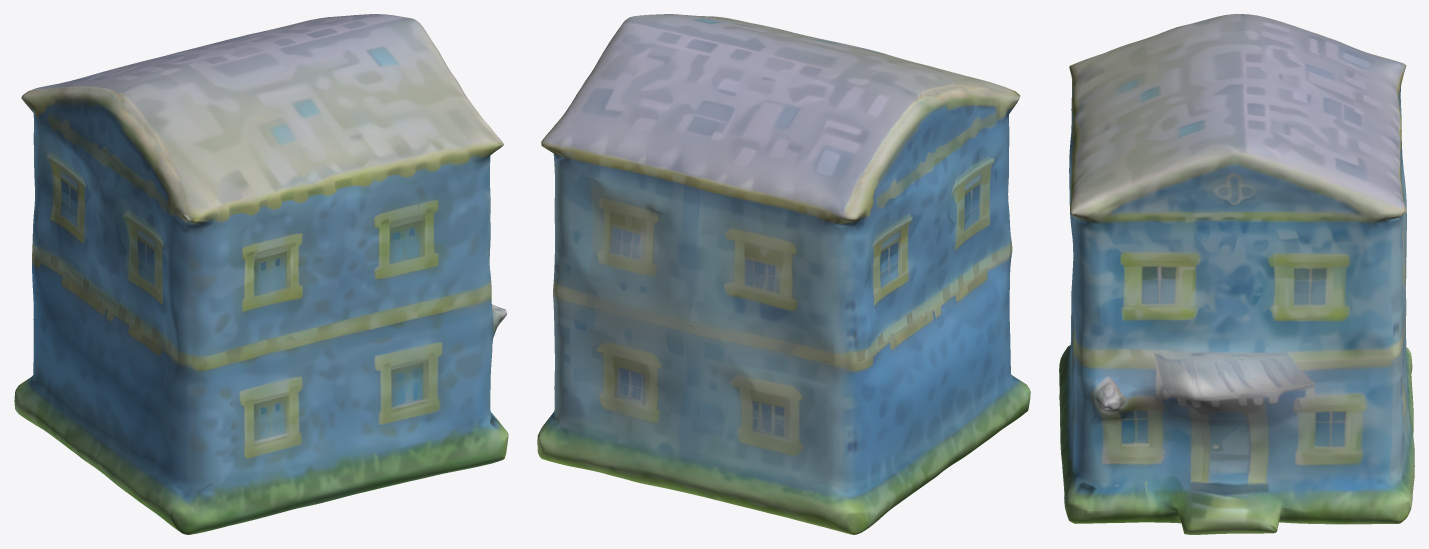
Rendered from A_light_blue_building_0407150245_refine.fbx.
3 renders of one model, left to right at view 1: azimuth 30°, elevation 25°; view 2: azimuth 150°, elevation 25°; view 3: azimuth 270°, elevation 25°, orthographic. The views are drawn at different scales.
Parts seen in each view (by area): view 1: Mesh_0; view 2: Mesh_0; view 3: Mesh_0.
Part boxes in pixels (x1,y1,x2,y2): Mesh_0: (14, 14, 508, 534); Mesh_0: (537, 14, 1030, 534); Mesh_0: (1059, 14, 1414, 534).
Bounding box in the file's own units: 115 × 120 × 97.38.
1 material, 1 textured.
